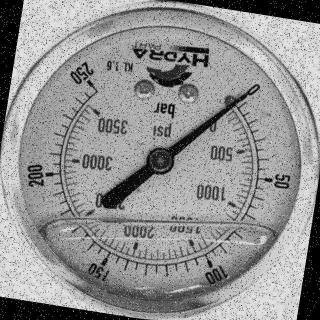gauge: (0, 0, 320, 320), (216, 75, 262, 125), (67, 57, 110, 103), (144, 145, 175, 177), (238, 90, 252, 104)
